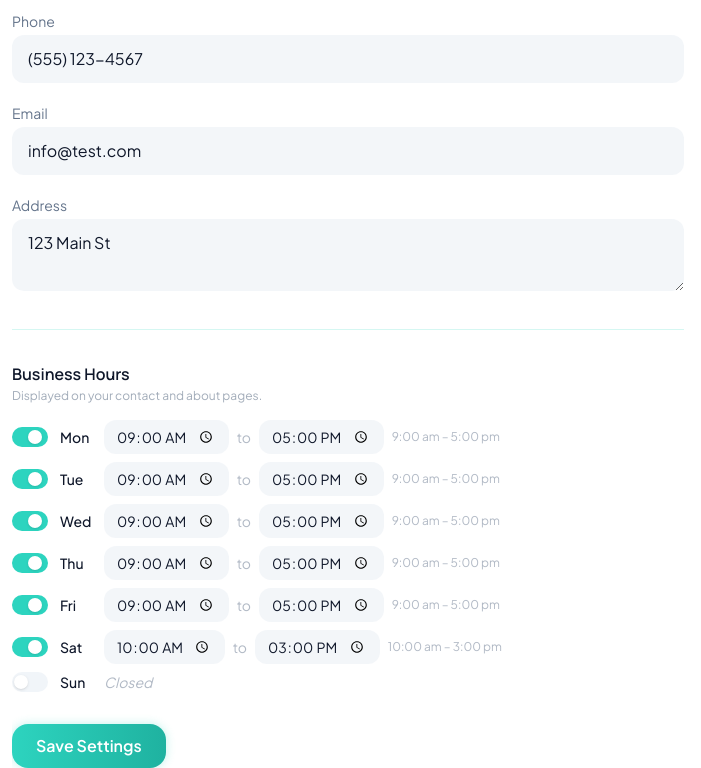
form submission › shows "Settings saved." on successful save
(page scrolled)
Click the button "Save Settings". click: [89, 746]
box: 12,724 -> 166,767
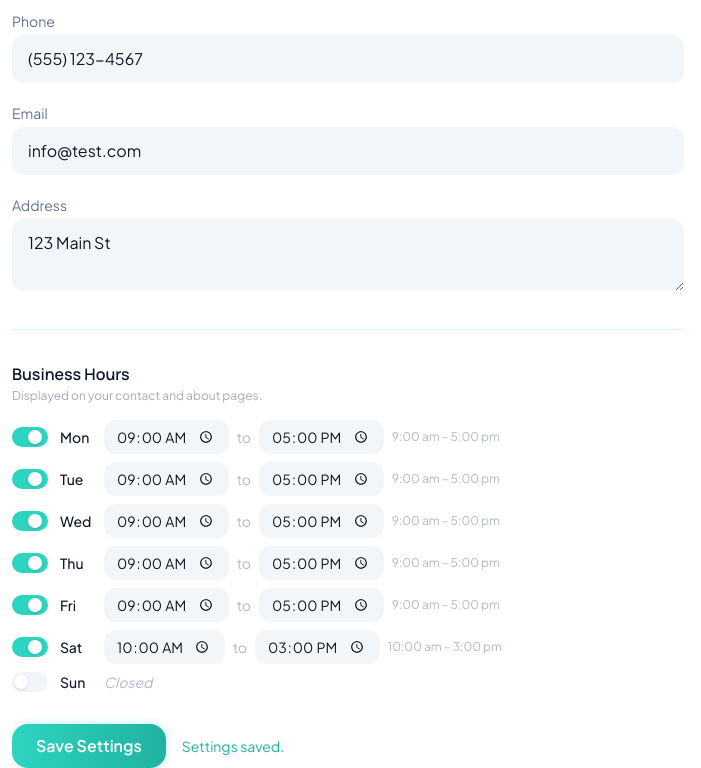
Now the text "Settings saved." is shown, box 182,736 -> 284,756
